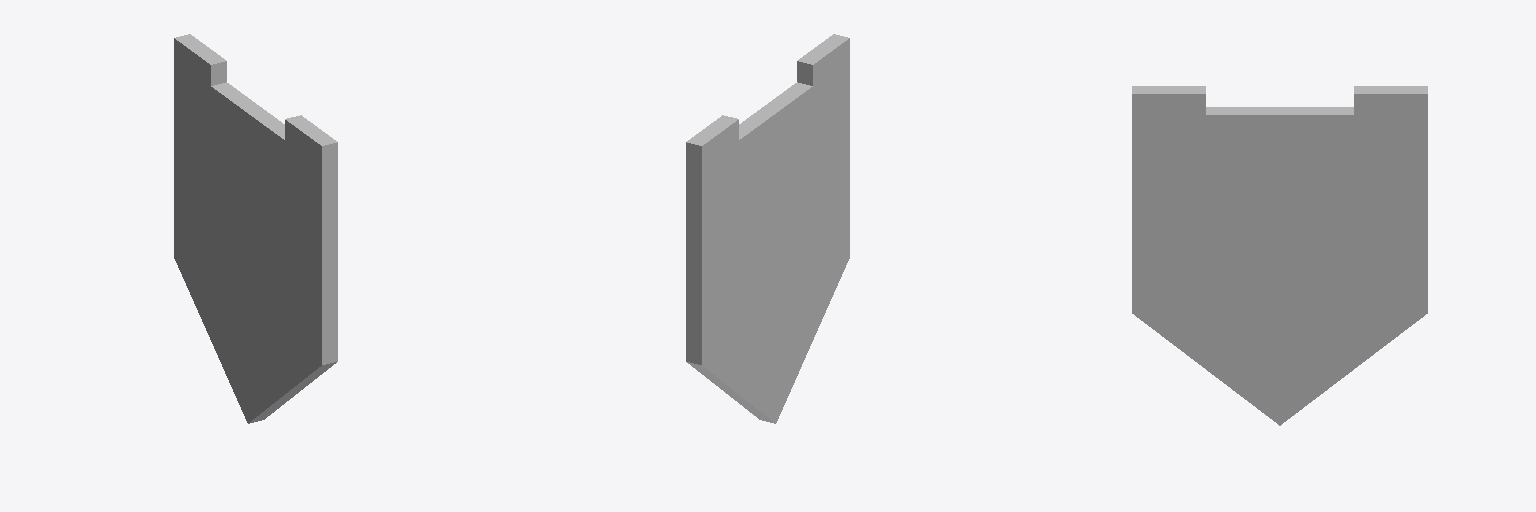
File: flagBannerShort.obj
3 views of the same model, side by side, from view 1: azimuth 30°, elevation 25°; view 2: azimuth 150°, elevation 25°; view 3: azimuth 270°, elevation 25° (orthographic).
Visible parts, largest first — view 1: flagBannerShort; view 2: flagBannerShort; view 3: flagBannerShort.
Part boxes in pixels (x1,y1,x2,y2): flagBannerShort: (174, 34, 337, 423); flagBannerShort: (686, 34, 849, 423); flagBannerShort: (1132, 86, 1427, 425).
Size of the model in its own units: 0.4 by 7.8 by 6.3.